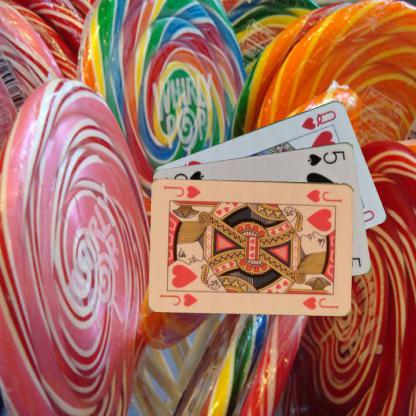5s: (305, 148, 347, 167)
Jh: (158, 290, 198, 308), (304, 187, 343, 204)
Qh: (299, 107, 338, 131)
